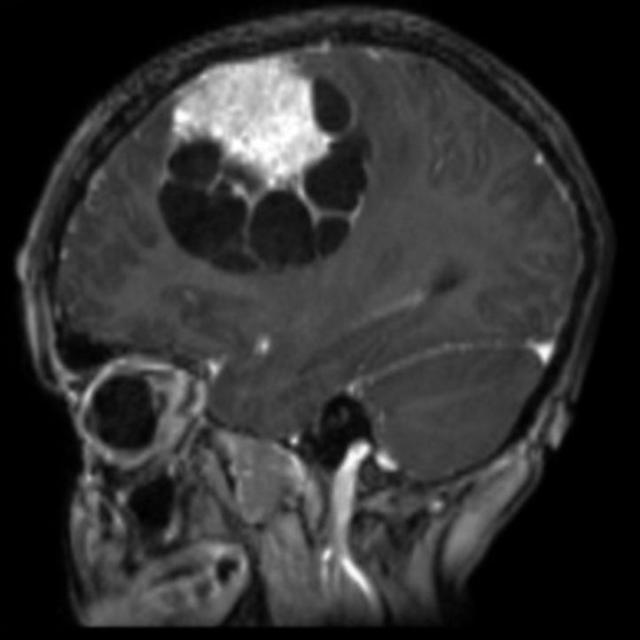Tumor: (161, 62, 374, 277)
